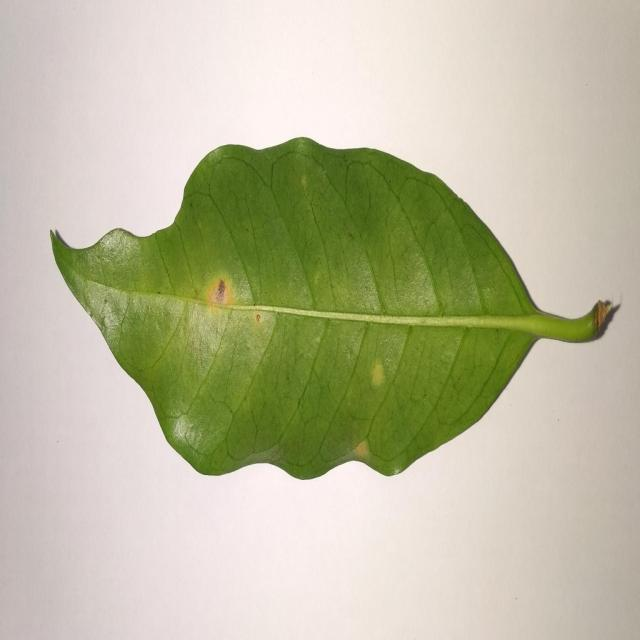Enfermedad-Roya: (49, 138, 620, 484)
